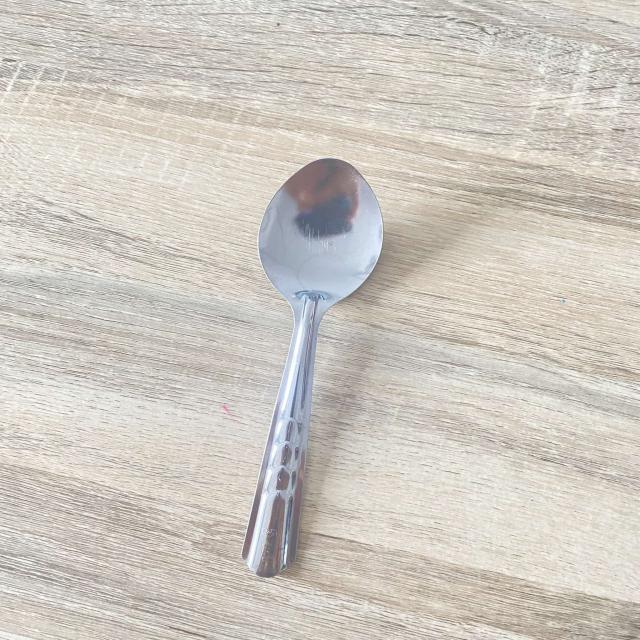spoon: (222, 148, 403, 584)
